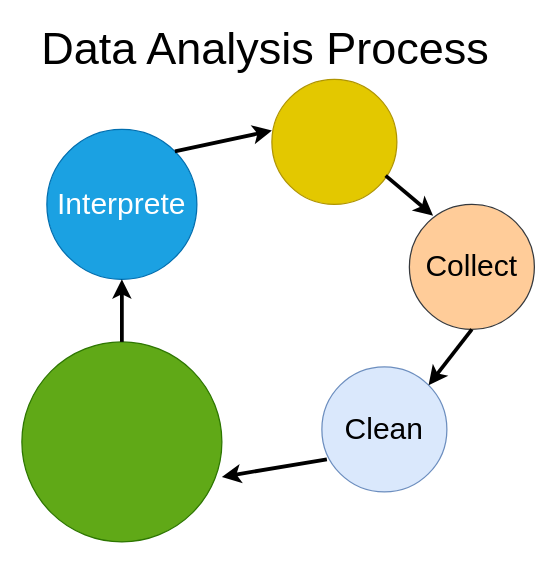
Image size: 556x564. Some labels were removed from this diagram. The shapes that lost their labels are listed below. From the top down, each one's centre as x and y in pixels, then its label:
At [334,141]: "Identify".
At [121,441]: "Analyze".
